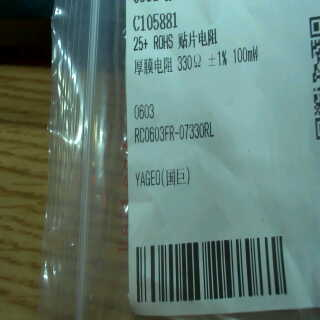330R: (174, 50, 204, 75)
